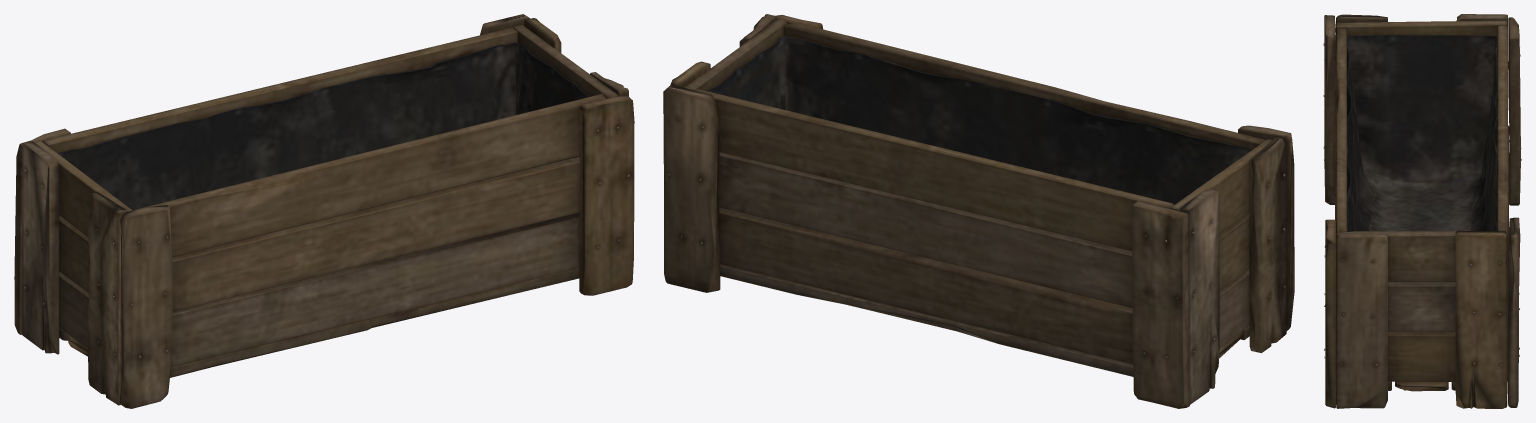
File: planter_box_02.glb
3 views of the same model, side by side, from view 1: azimuth 30°, elevation 25°; view 2: azimuth 150°, elevation 25°; view 3: azimuth 270°, elevation 25° (orthographic). The views are drawn at different scales.
Visible parts, largest first — view 1: planter_box_02; view 2: planter_box_02; view 3: planter_box_02.
Part boxes in pixels (x1,y1,x2,y2): planter_box_02: (14, 14, 634, 408); planter_box_02: (663, 14, 1294, 408); planter_box_02: (1323, 14, 1521, 408).
Size of the model in its own units: 1.25 by 0.4534 by 0.4672.
Materials: 1 (1 with a texture image).
